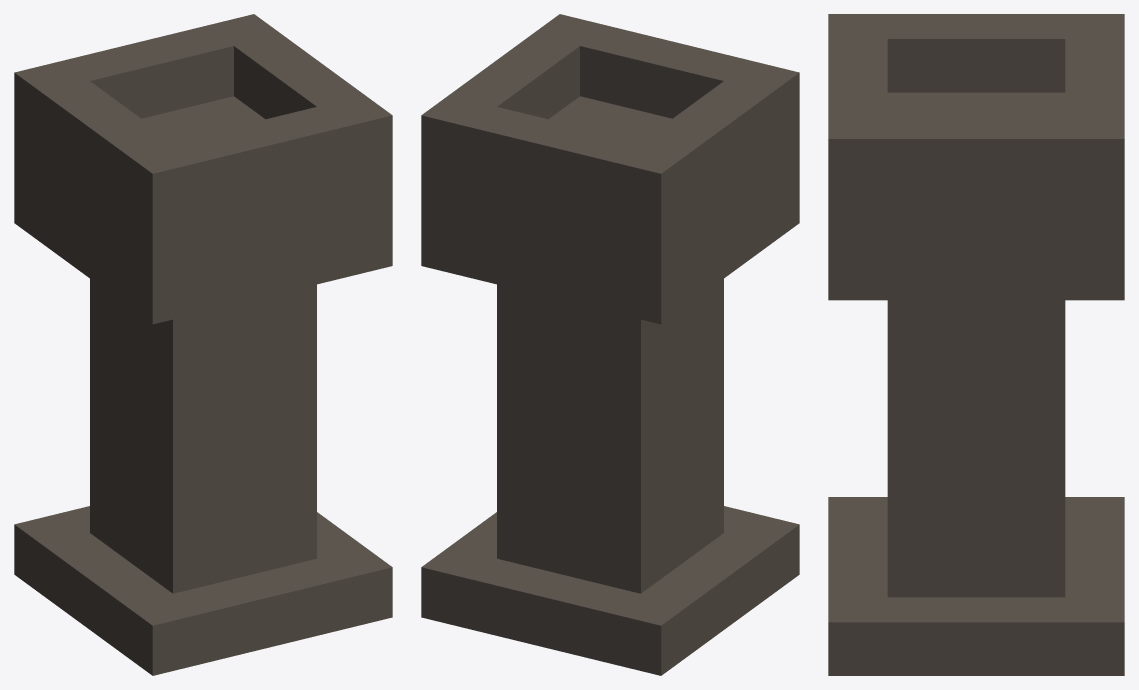
File: ground_torch_a_b_unlit.obj
The picture shows the model from 3 angles, left to right: view 1: azimuth 30°, elevation 25°; view 2: azimuth 150°, elevation 25°; view 3: azimuth 270°, elevation 25°; orthographic projection. The views are drawn at different scales.
Size of the model in its own units: 0.5 by 1 by 0.5.
1 material, 1 textured.
